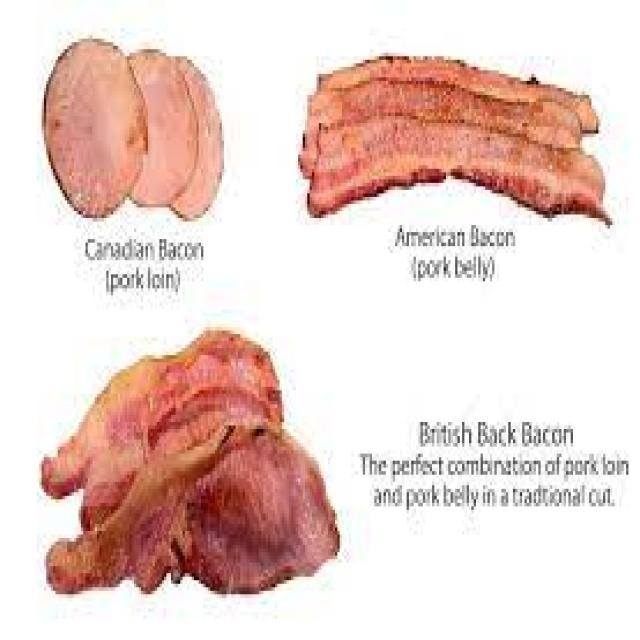bacon: (36, 348, 357, 611), (310, 62, 608, 227), (45, 39, 222, 225)
